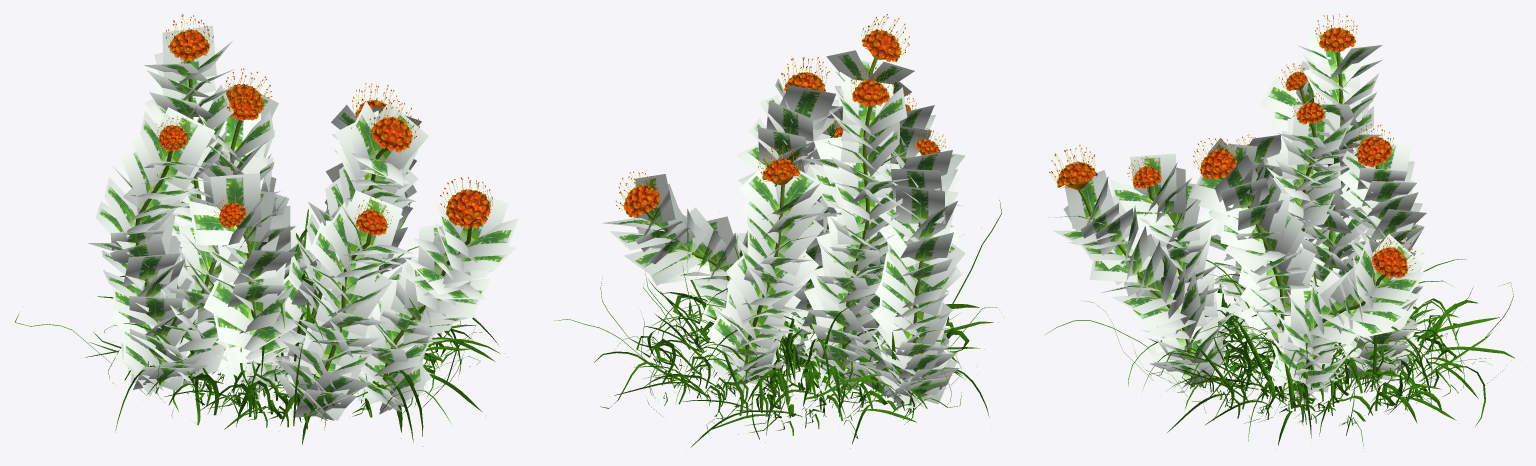
File: orange_pincushion_flower.glb
The picture shows the model from 3 angles, left to right: view 1: azimuth 30°, elevation 25°; view 2: azimuth 150°, elevation 25°; view 3: azimuth 270°, elevation 25°; orthographic projection. The views are drawn at different scales.
Parts seen in each view (by area): view 1: Leaf_2_8, L_B_2.004_7, F_Bud_F_Bud_BaseColor_6, Bark.002_5; view 2: Leaf_2_8, L_B_2.004_7, F_Bud_F_Bud_BaseColor_6, Bark.002_5; view 3: Leaf_2_8, L_B_2.004_7, F_Bud_F_Bud_BaseColor_6, Bark.002_5.
Part boxes in pixels (bbox=[...]): Leaf_2_8: bbox=[87, 25, 518, 420]; L_B_2.004_7: bbox=[15, 201, 507, 446]; F_Bud_F_Bud_BaseColor_6: bbox=[157, 14, 492, 235]; Bark.002_5: bbox=[135, 60, 472, 416]; Leaf_2_8: bbox=[602, 50, 965, 409]; L_B_2.004_7: bbox=[554, 200, 1001, 448]; F_Bud_F_Bud_BaseColor_6: bbox=[616, 14, 945, 218]; Bark.002_5: bbox=[645, 58, 923, 398]; Leaf_2_8: bbox=[1048, 33, 1426, 403]; L_B_2.004_7: bbox=[1045, 238, 1514, 449]; F_Bud_F_Bud_BaseColor_6: bbox=[1049, 14, 1415, 278]; Bark.002_5: bbox=[1078, 52, 1385, 377].
Size of the model in its own units: 1.05 by 0.9329 by 1.18.
4 materials, 4 textured.
